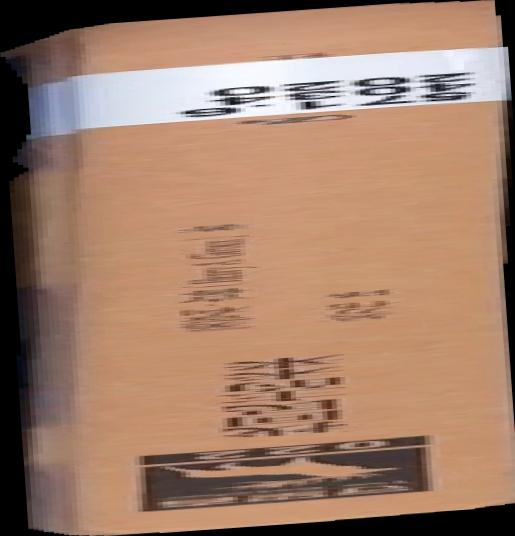reverse: (1, 1, 515, 536)
